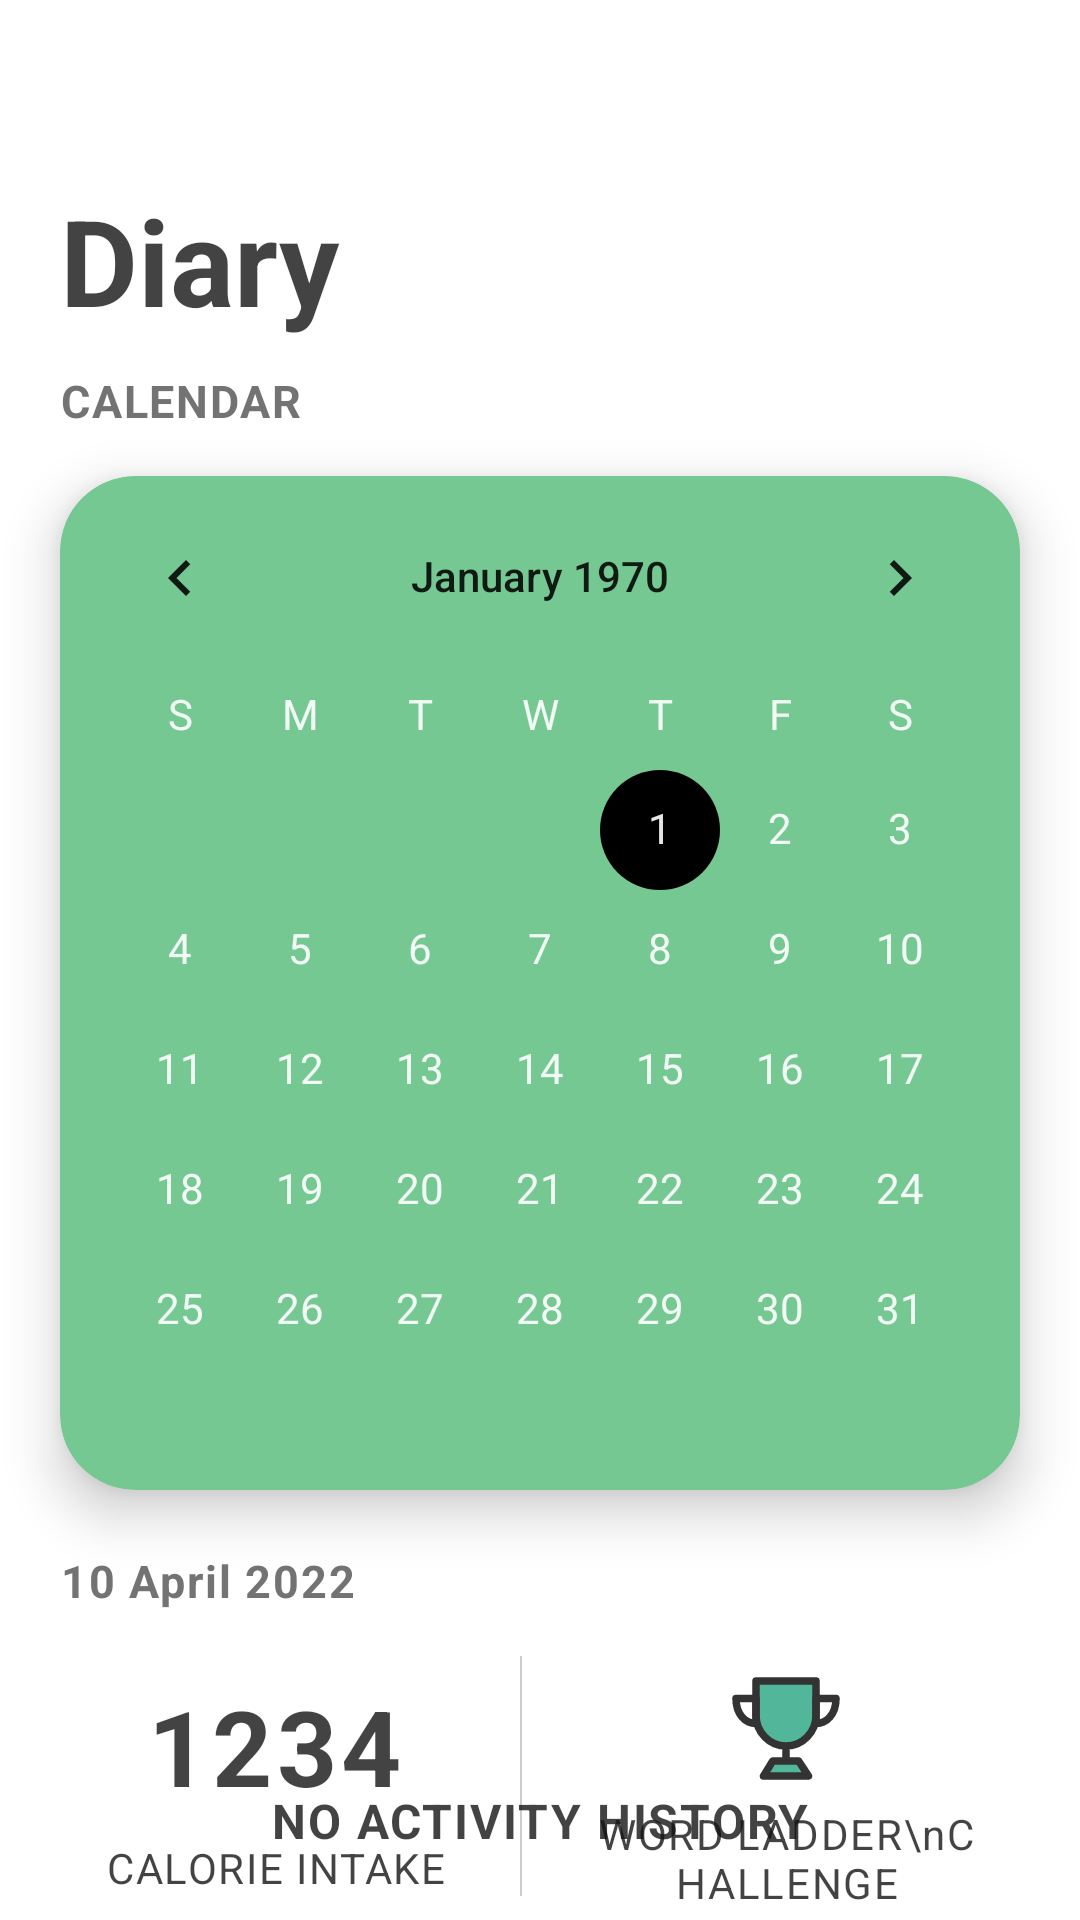

Icon click points for this 1080px×1920px phone screenshot, format (x,y):
awarded: (786,1728)
